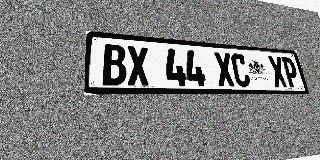4: (164, 48, 187, 86), (184, 50, 206, 86)
B: (102, 44, 127, 86)
C: (230, 53, 251, 87)
P: (281, 57, 301, 88)
X: (126, 45, 150, 86), (213, 52, 235, 87), (267, 56, 288, 87)
